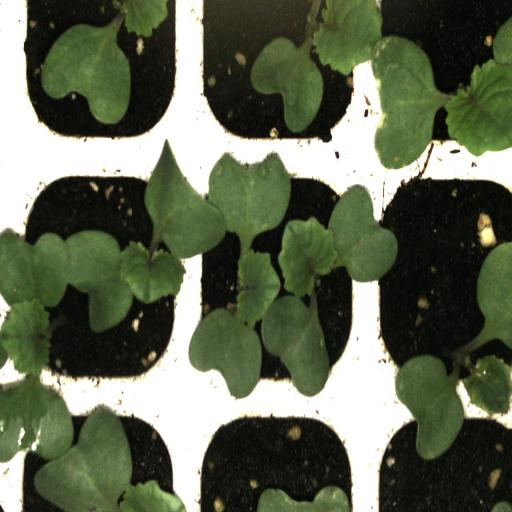seedling: (368, 168, 512, 409), (12, 1, 194, 157), (189, 0, 368, 158), (366, 0, 512, 170)
twoseedling: (14, 158, 192, 401), (191, 158, 367, 400)
